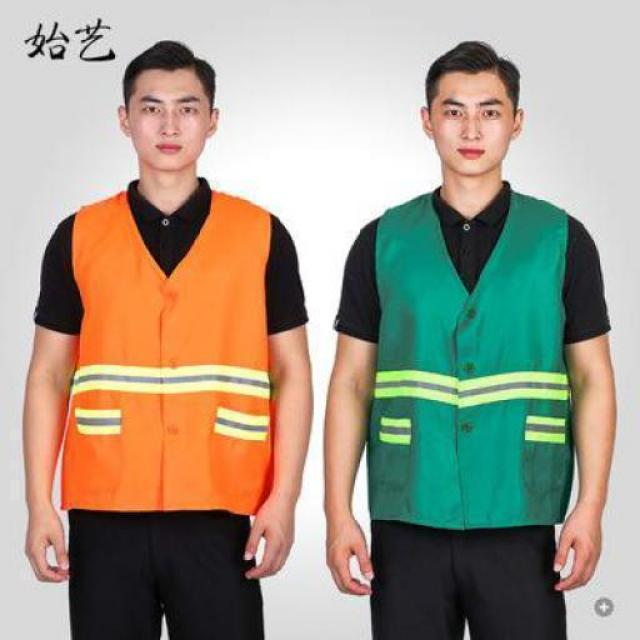face_nomask: (436, 92, 516, 168), (137, 89, 206, 162)
hand_noglove: (230, 495, 300, 583), (316, 498, 374, 604), (546, 503, 612, 595), (18, 503, 74, 589)
head_nohelmet: (112, 30, 227, 90), (411, 37, 530, 94)
person: (319, 32, 625, 640), (19, 40, 309, 640)
vest: (368, 189, 576, 526), (67, 185, 271, 520)
